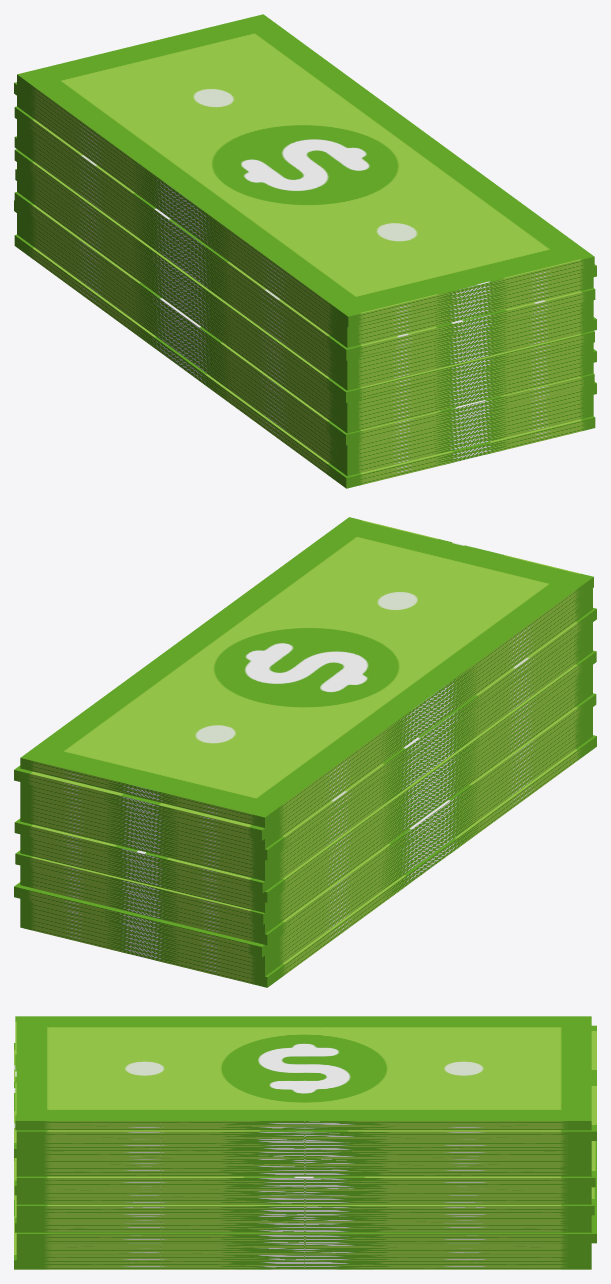
Rendered from money_car2.fbx.
3 renders of one model, top to bottom at view 1: azimuth 30°, elevation 25°; view 2: azimuth 150°, elevation 25°; view 3: azimuth 270°, elevation 25°, orthographic. The views are drawn at different scales.
Parts seen in each view (by area): view 1: Object004, Box004, Object005, Object006; view 2: Box004, Object004, Object005, Object006; view 3: Box004, Object004, Object005, Object006.
Part boxes in pixels (box(x1,y1,x2,y2)): Object004: box(262, 195, 596, 488); Box004: box(14, 14, 345, 305); Object005: box(179, 135, 510, 426); Object006: box(97, 74, 427, 366); Box004: box(14, 698, 349, 987); Object004: box(266, 517, 596, 807); Object005: box(184, 578, 513, 867); Object006: box(102, 638, 431, 927); Box004: box(448, 1016, 596, 1269); Object004: box(14, 1016, 160, 1269); Object005: box(160, 1016, 304, 1269); Object006: box(304, 1016, 447, 1269).
Size of the model in its own units: 210 by 136 by 484.
